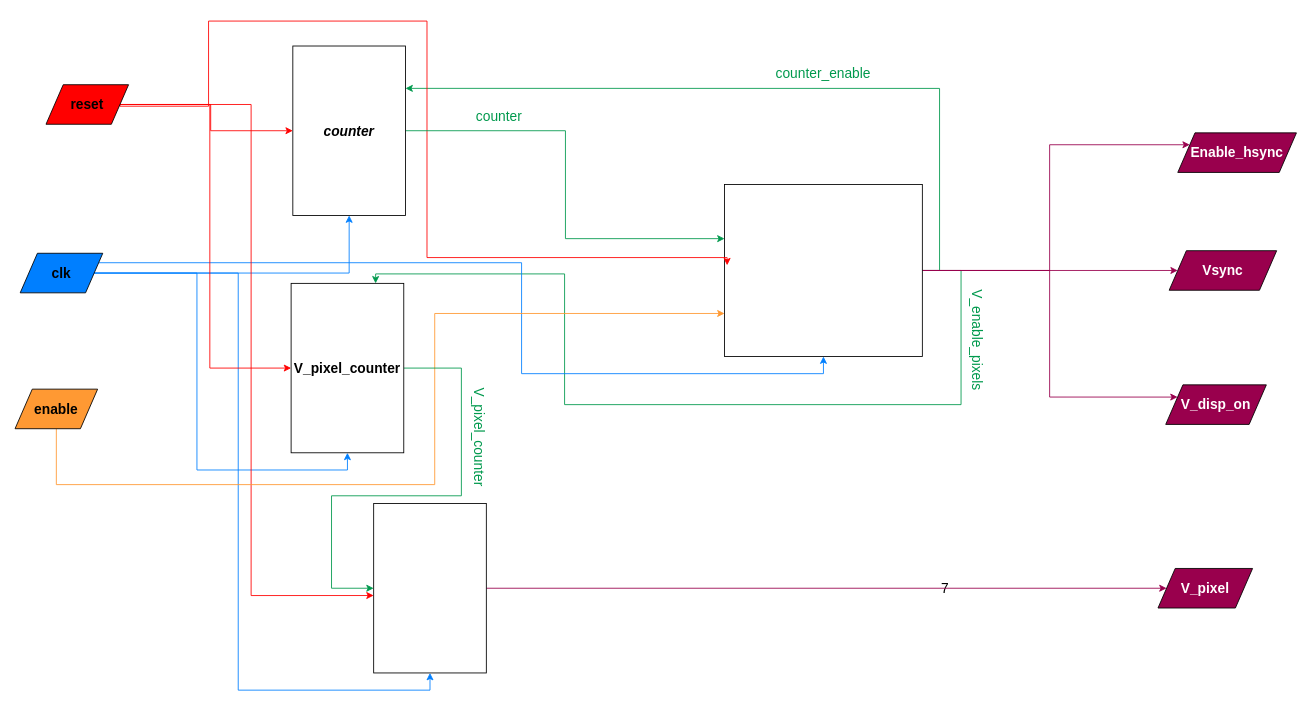
Image size: 1312x712. Some labels were removed from this diagram. The shapes that lost their labels are listed below. From the top down, each one's centre as x and y in pixels, then its label:
point 823,270: FSM_VSYNC
point 429,588: Vpixel
